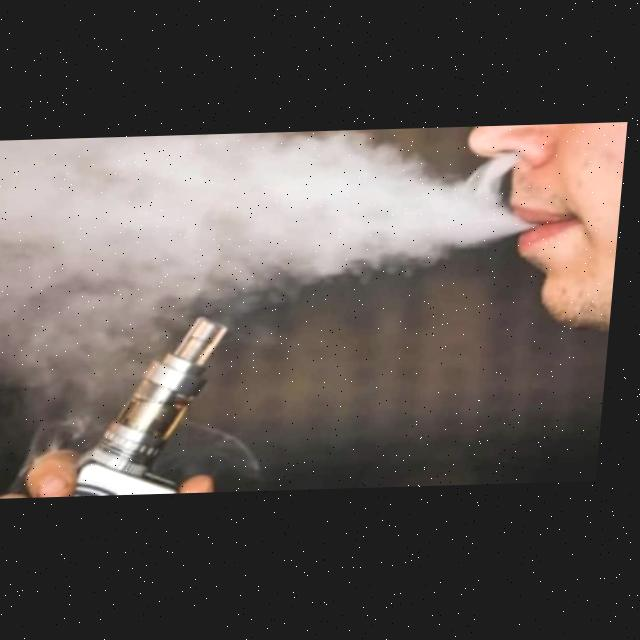vape: (82, 316, 236, 497)
